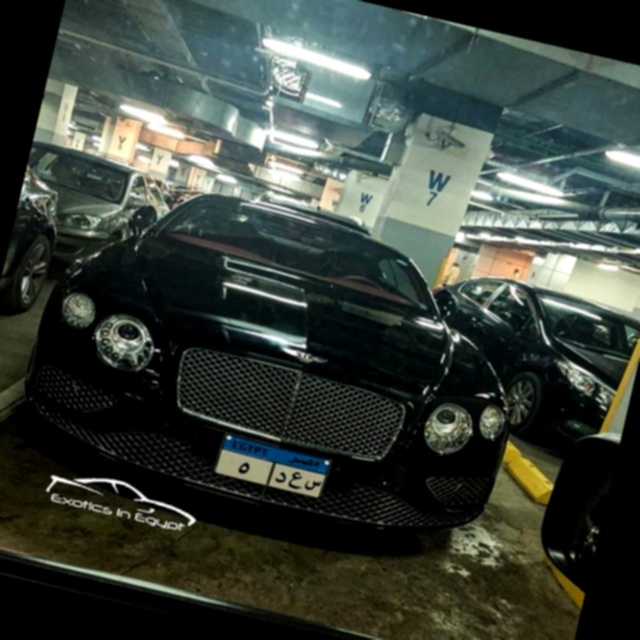License Plate: (209, 430, 334, 502)
